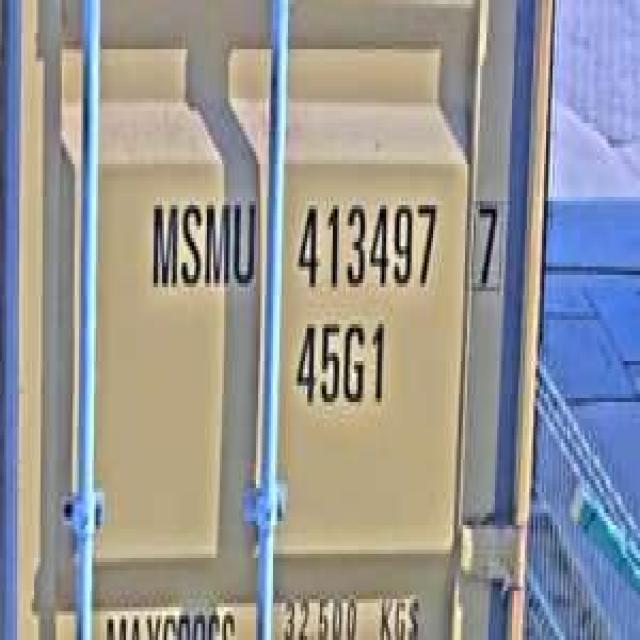dv: (467, 184, 508, 304)
owner: (145, 184, 258, 300)
serial: (292, 184, 442, 300)
size: (290, 307, 388, 418)
